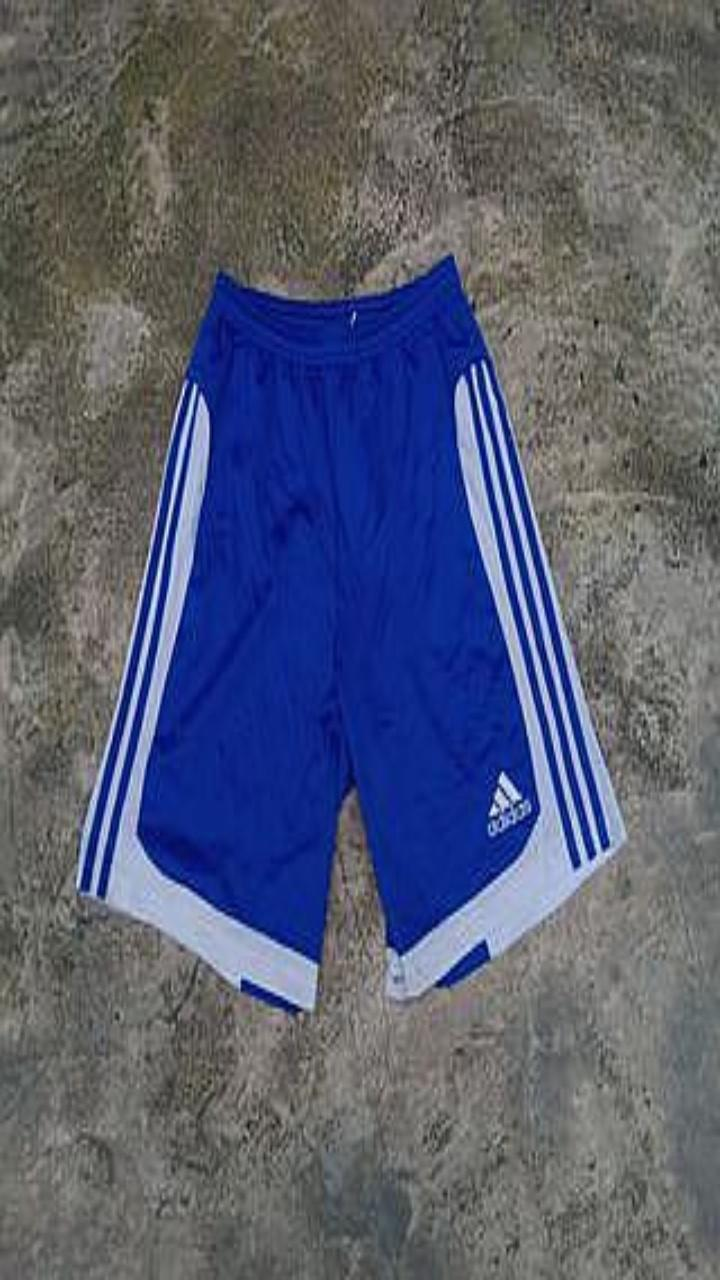Shorts: (77, 255, 624, 1010)
